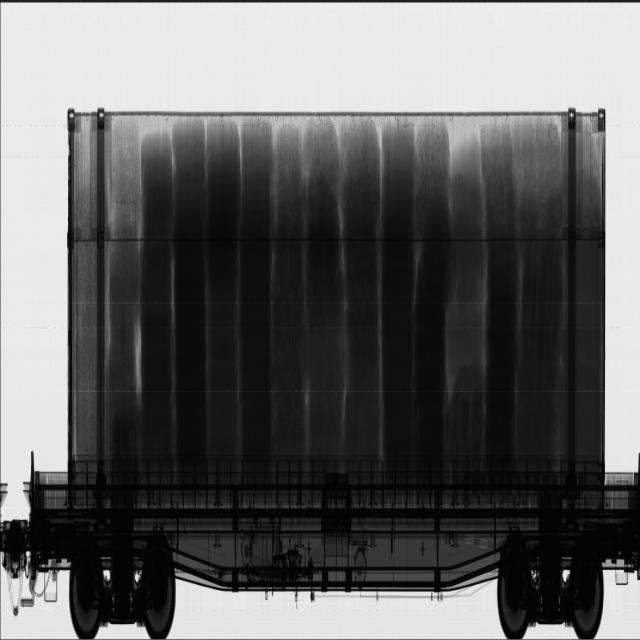textiles: (74, 123, 599, 461)
